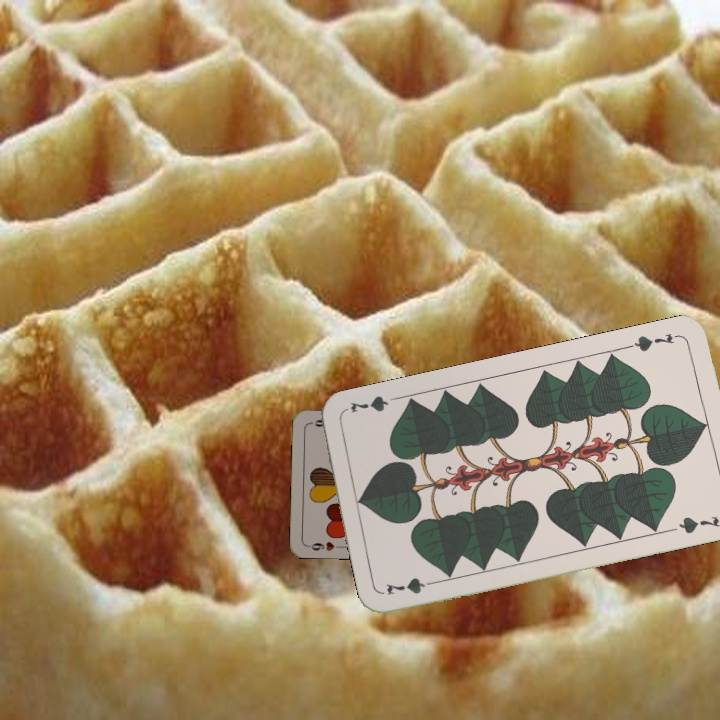G7: (382, 573, 441, 598), (625, 329, 684, 354)
H9: (304, 538, 345, 553)
